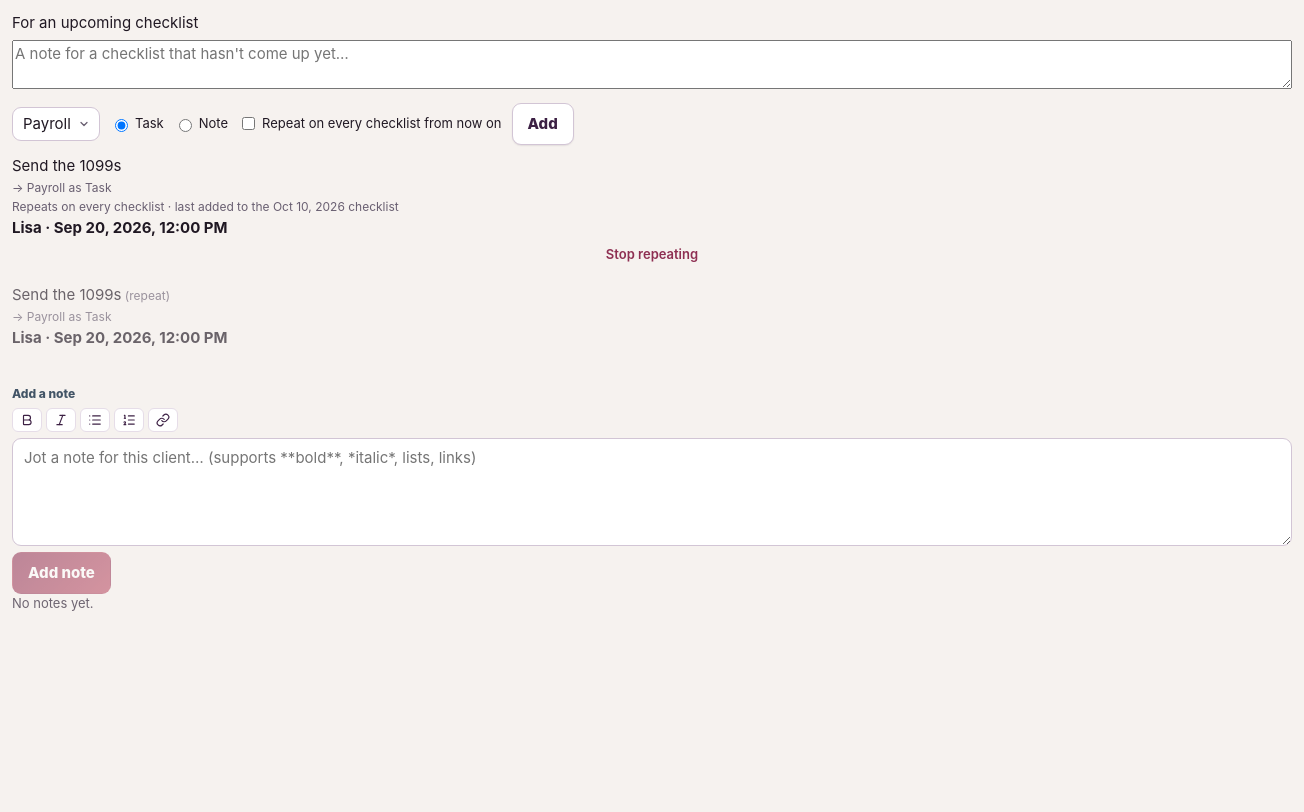
Test: the list › Stop repeating removes the note through the delete route and leaves the copies on checklists listed
The width and height of the screenshot is (1304, 812).
Step 1. Click the button "Stop repeating" → (652, 254), box [12, 241, 1292, 268]
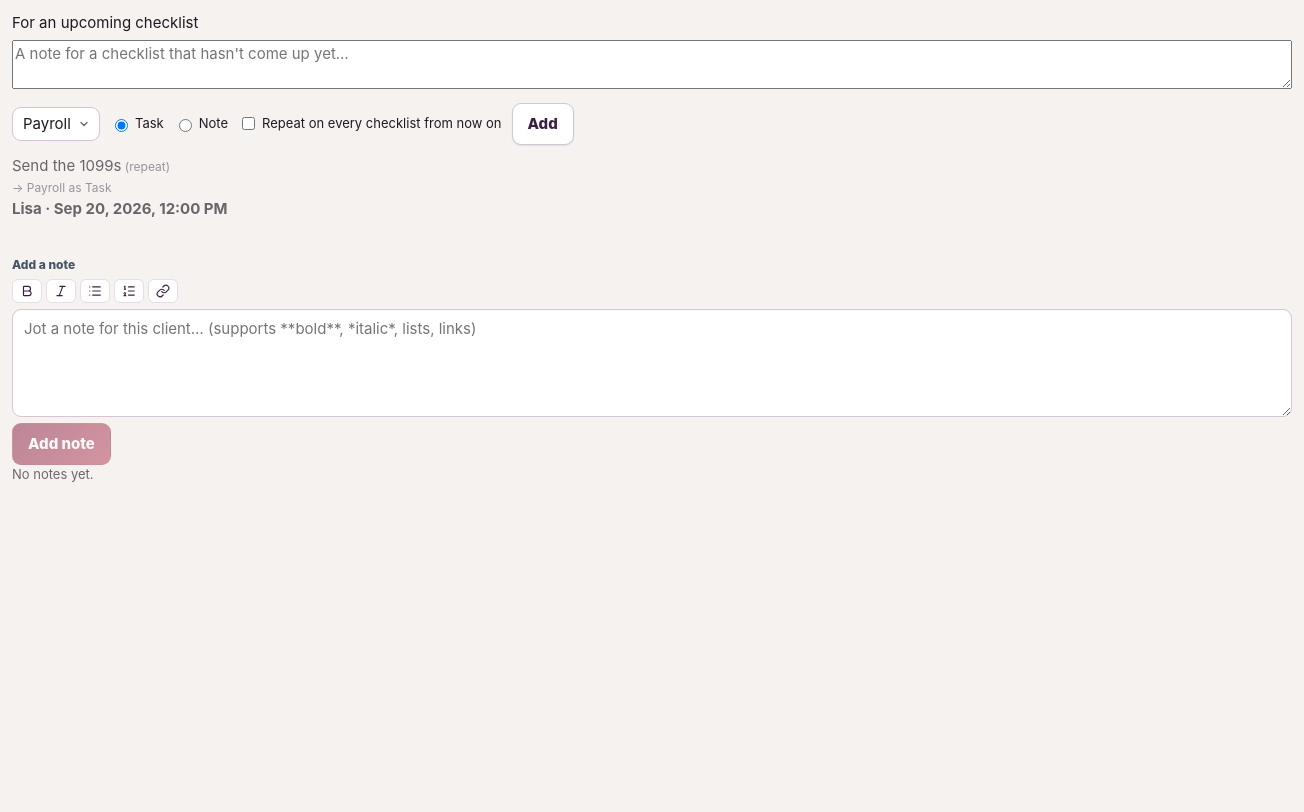
Expected: the button "Stop repeating" is gone
Expected: the text "Repeats on every checklist" is gone
Expected: the text "Send the 1099s" is shown once, [12, 156, 170, 175]
